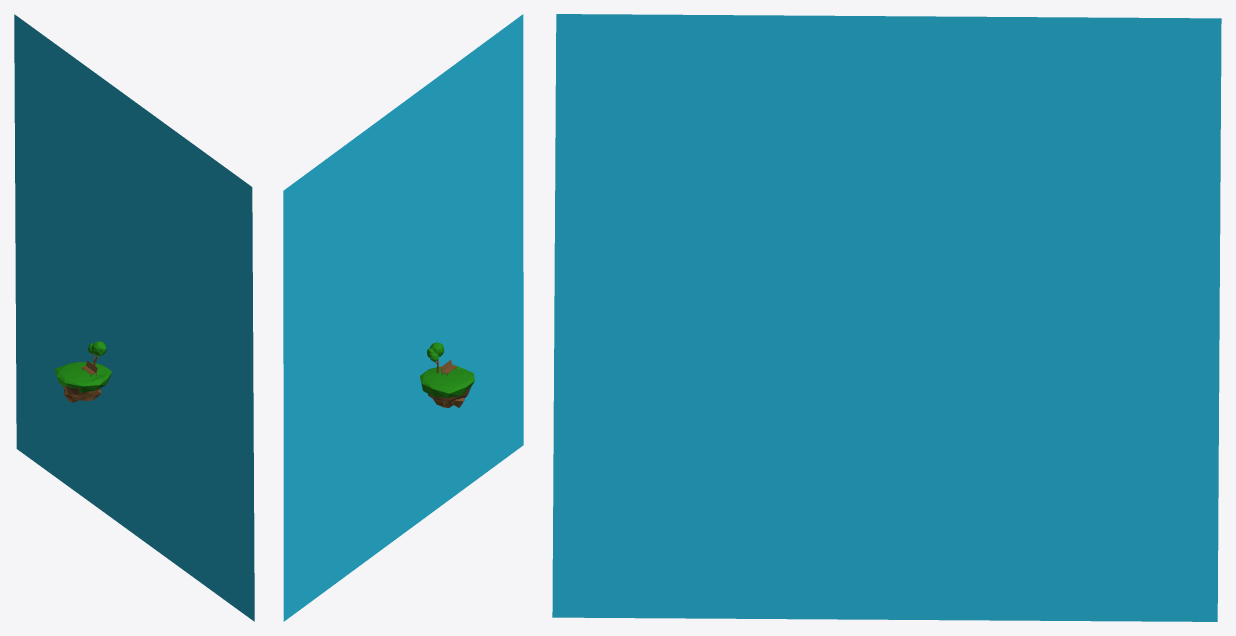
File: island.glb
The picture shows the model from 3 angles, left to right: view 1: azimuth 30°, elevation 25°; view 2: azimuth 150°, elevation 25°; view 3: azimuth 270°, elevation 25°; orthographic projection. The views are drawn at different scales.
Parts seen in each view (by area): view 1: Plane.002, Icosphere.003; view 2: Plane.002, Icosphere.003; view 3: Plane.002.
Boxes of the visible parts, left/top/right/bottom form: Plane.002: left=14, top=14, right=254, bottom=621; Icosphere.003: left=54, top=362, right=111, bottom=392; Plane.002: left=283, top=14, right=523, bottom=621; Icosphere.003: left=420, top=364, right=474, bottom=397; Plane.002: left=552, top=14, right=1221, bottom=621.
Bounding box in the file's own units: 41.12 × 240 × 240.
